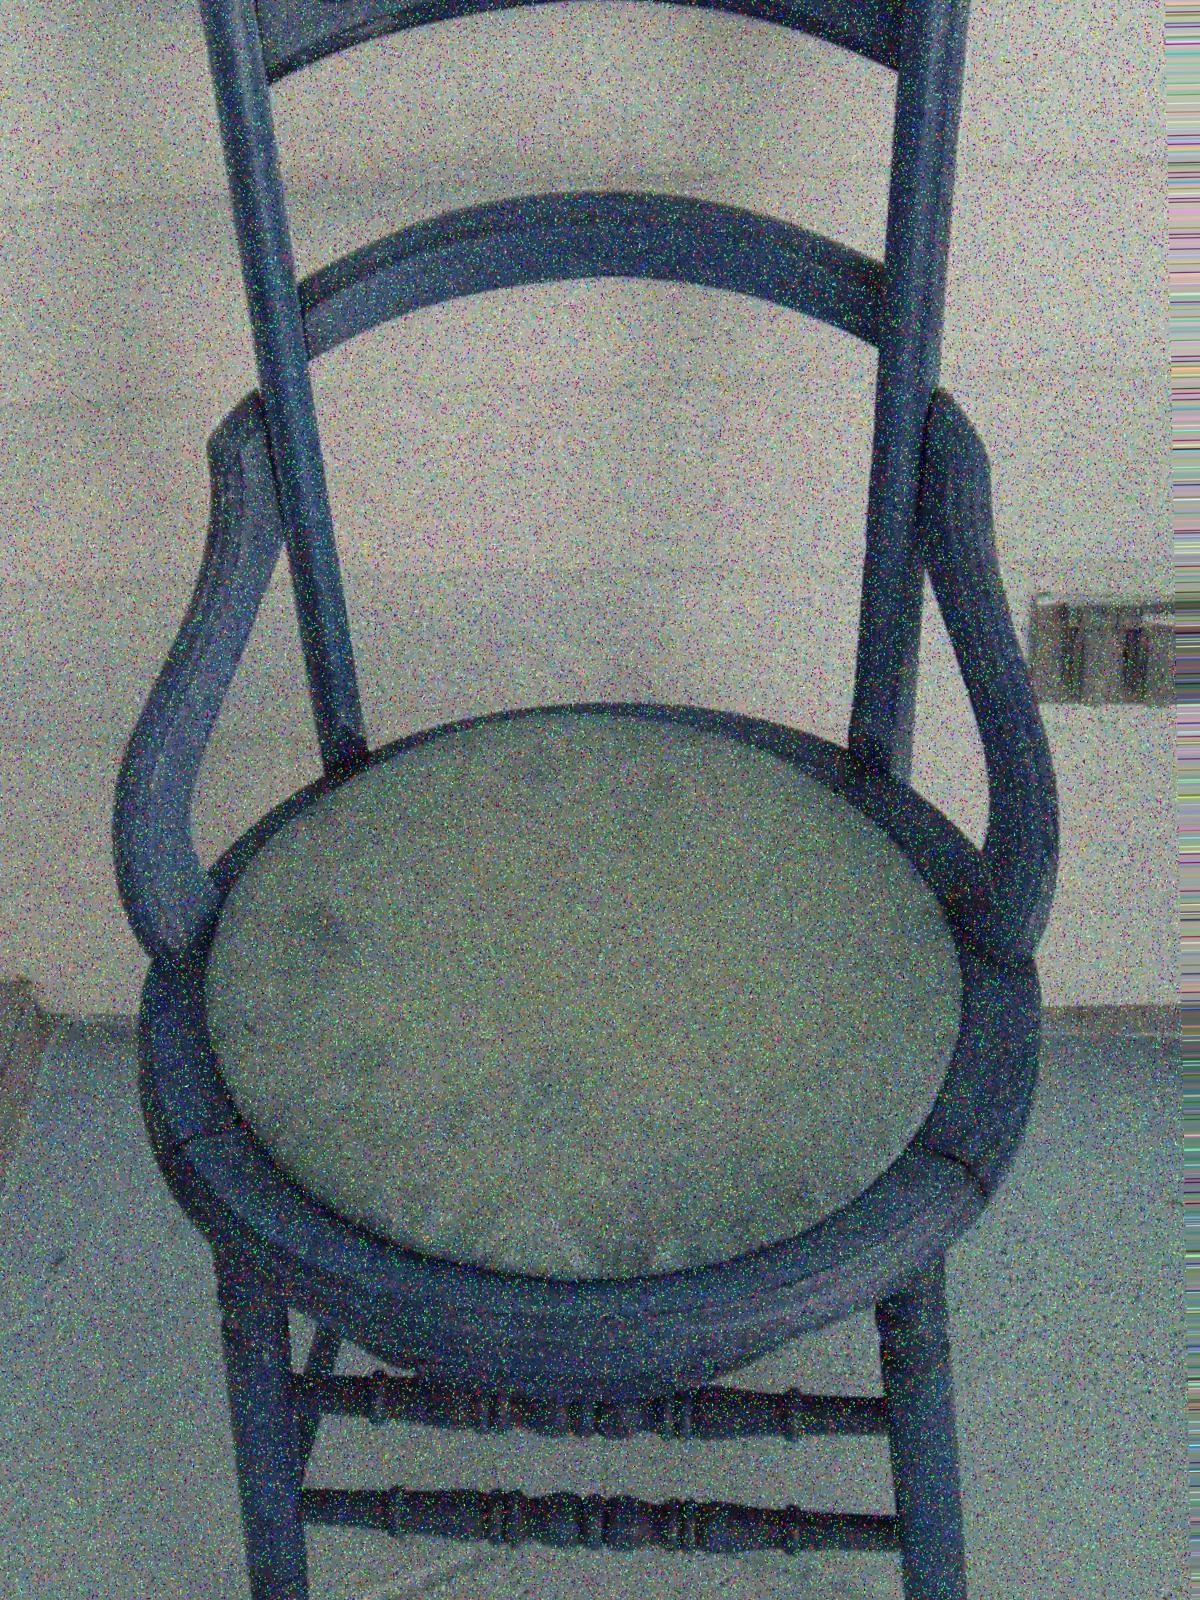table: (107, 3, 1063, 1600)
